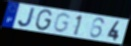1: (73, 15, 84, 36)
4: (106, 21, 121, 42)
6: (89, 18, 105, 40)
G: (34, 9, 54, 32), (52, 13, 72, 34)
J: (16, 7, 37, 29)
